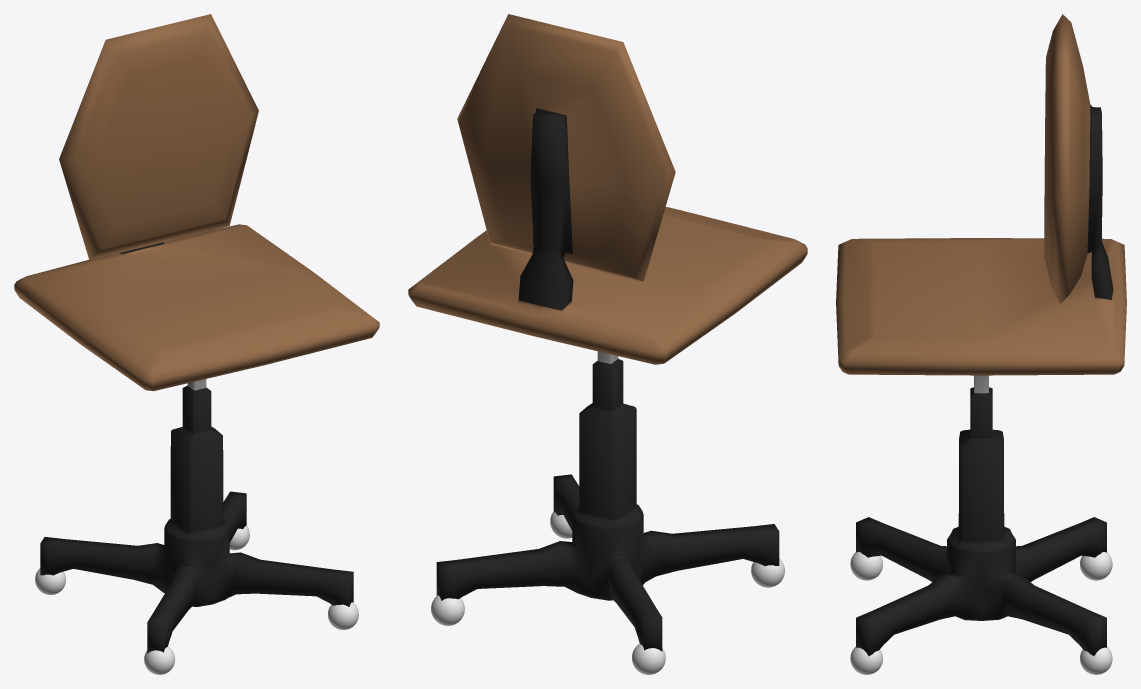
Rendered from Chair.fbx.
3 renders of one model, left to right at view 1: azimuth 30°, elevation 25°; view 2: azimuth 150°, elevation 25°; view 3: azimuth 270°, elevation 25°, orthographic. The views are drawn at different scales.
Parts seen in each view (by area): view 1: Cylinder, Sphere; view 2: Cylinder, Sphere; view 3: Cylinder, Sphere.
Boxes of the visible parts, x1,y1,x2,y2 form: Cylinder: (14, 14, 379, 653); Sphere: (35, 525, 358, 674); Cylinder: (408, 14, 807, 651); Sphere: (431, 512, 784, 674); Cylinder: (836, 14, 1126, 656); Sphere: (850, 552, 1112, 674).
Bounding box in the file's own units: 0.6004 × 1.33 × 0.6004.
